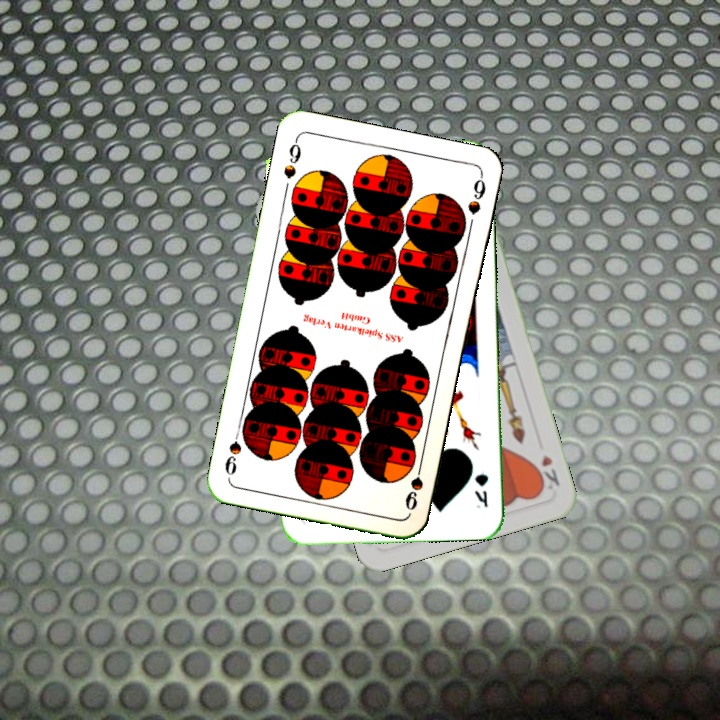GK: (470, 470, 491, 511)
HK: (531, 450, 562, 493)
S9: (401, 455, 426, 513), (280, 134, 304, 181)
